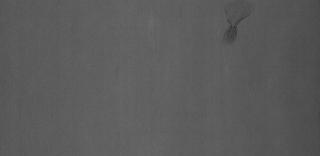water spot: (218, 3, 256, 48)
